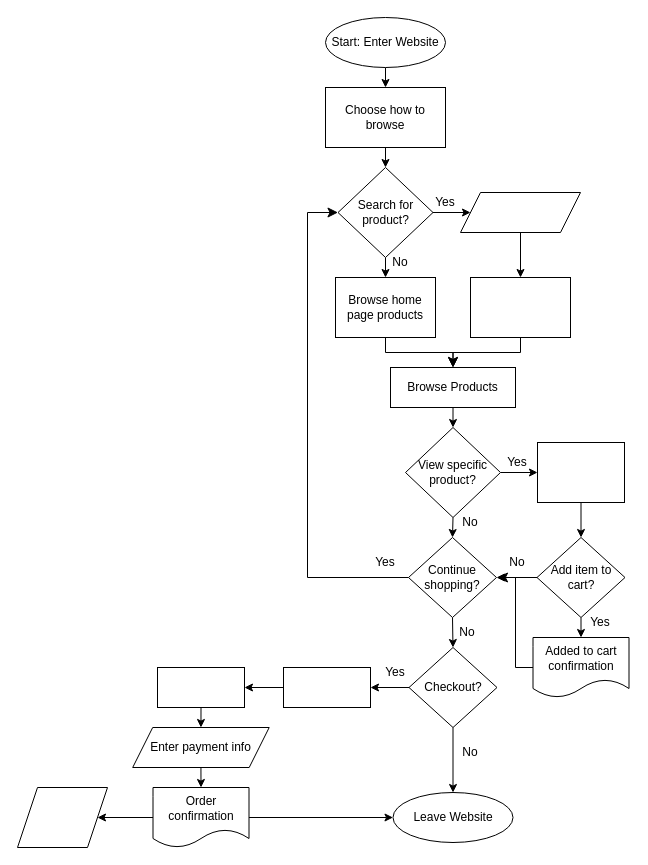
The diagram is 648 pixels wide and 865 high, and some of its shapes have lost their labels. The shapes that lost their labels are listed below. From the top down, each one's centre as x and y in pixels, then its label:
point (520, 212): Enter search input
point (520, 307): Browse search results
point (580, 472): Open product page
point (200, 687): View payment
point (326, 687): View cart
point (62, 817): Order confirmation email
